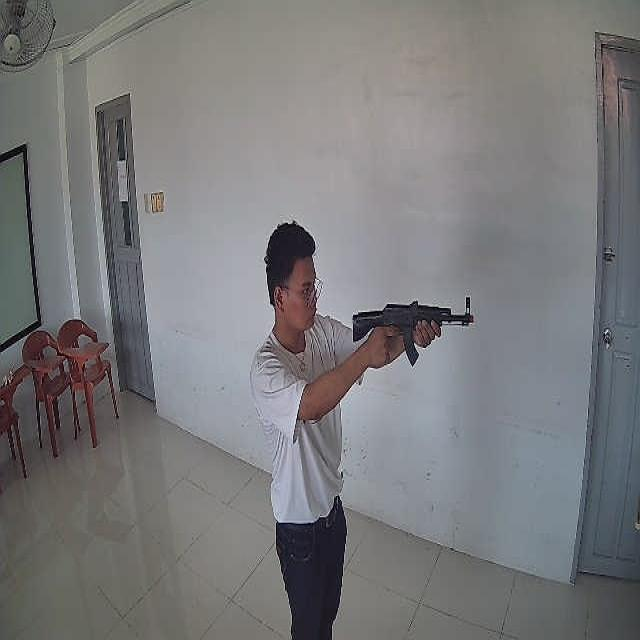rifle: (353, 297, 473, 368)
